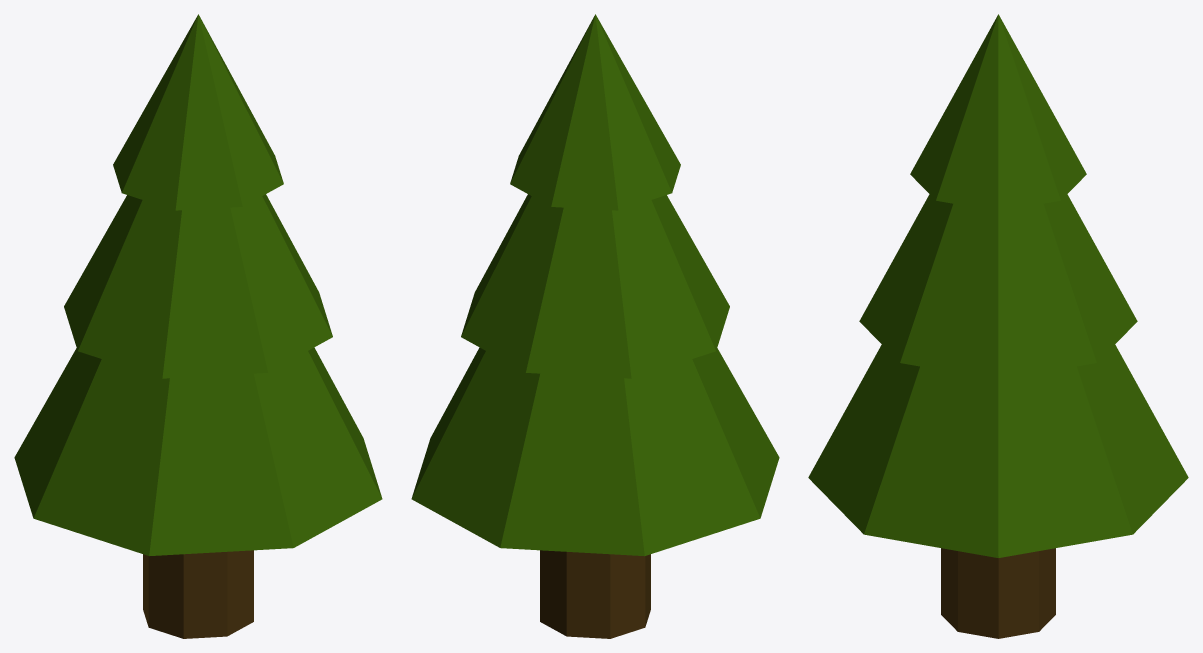
Rendered from Pine Tree.fbx.
3 views of the same model, side by side, from view 1: azimuth 30°, elevation 25°; view 2: azimuth 150°, elevation 25°; view 3: azimuth 270°, elevation 25° (orthographic).
Parts seen in each view (by area): view 1: Leaves, Trunk; view 2: Leaves, Trunk; view 3: Leaves, Trunk.
Boxes of the visible parts, <box> form: Leaves: <box>14,14,382,556</box>; Trunk: <box>143,550,253,638</box>; Leaves: <box>411,14,779,556</box>; Trunk: <box>540,550,650,638</box>; Leaves: <box>808,14,1188,557</box>; Trunk: <box>941,548,1055,638</box>.
Bounding box in the file's own units: 41.73 × 72.66 × 41.73.
